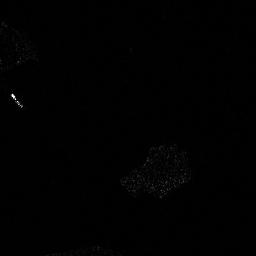ship: (10, 92, 23, 110)
